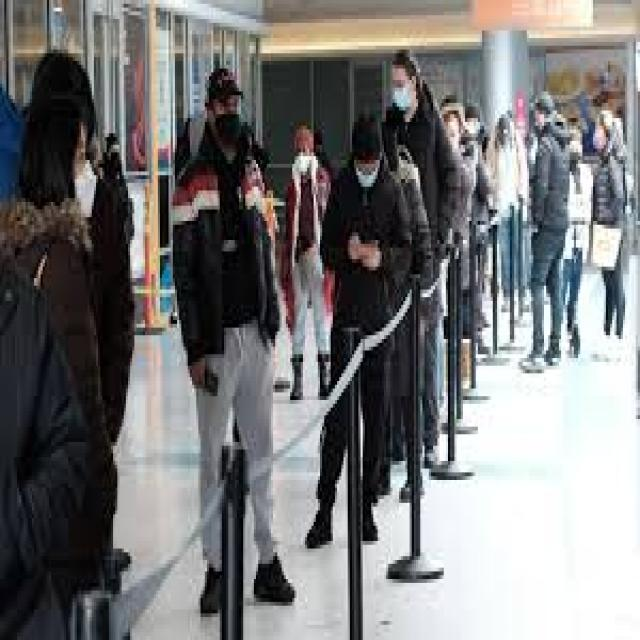Jacket: (2, 200, 122, 640), (166, 132, 279, 350), (321, 168, 413, 346), (382, 104, 459, 290), (284, 163, 336, 323), (530, 126, 572, 231)
